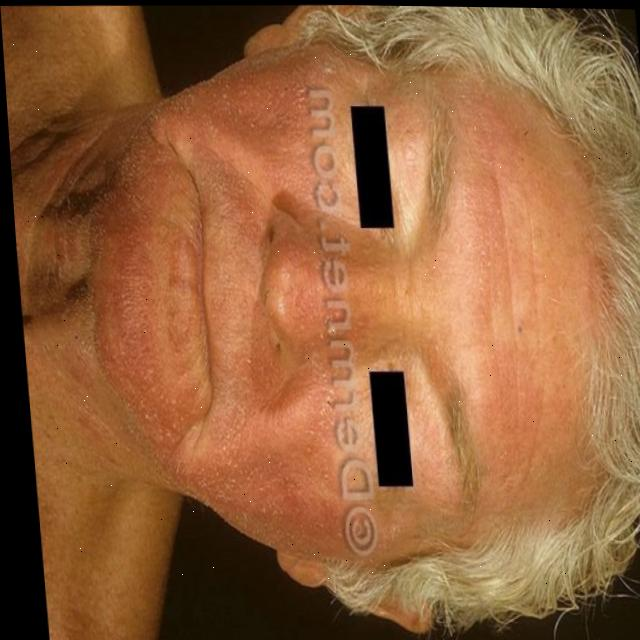Eczema: (109, 90, 352, 541)
